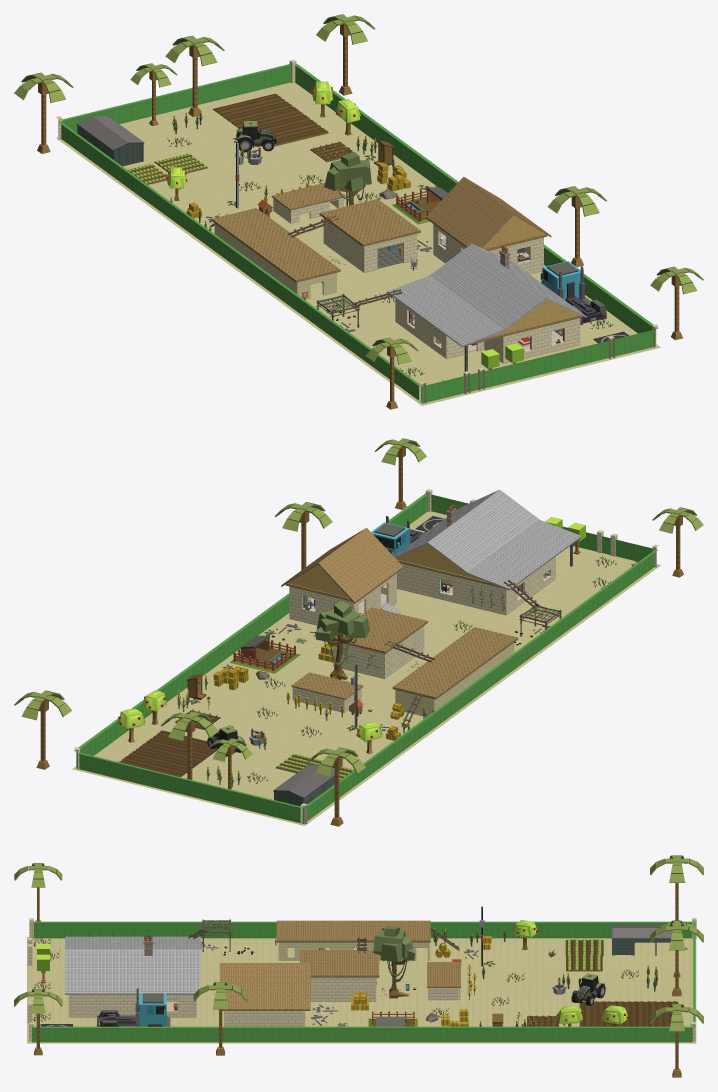
The model's file is chalo_house.glb.
The picture shows the model from 3 angles, top to bottom: view 1: azimuth 30°, elevation 25°; view 2: azimuth 150°, elevation 25°; view 3: azimuth 270°, elevation 25°; orthographic projection. The views are drawn at different scales.
Visible parts, largest first — view 1: Object_6, Object_38, Object_60, Object_52, Object_56, Object_44, Object_40, Object_16, Object_58, Object_20, Object_22, Object_18 (+5 smaller); view 2: Object_6, Object_38, Object_60, Object_56, Object_52, Object_44, Object_16, Object_22, Object_40, Object_18, Object_58, Object_62 (+4 smaller); view 3: Object_6, Object_38, Object_60, Object_52, Object_56, Object_44, Object_40, Object_16, Object_22, Object_18, Object_20, Object_58 (+7 smaller).
Boxes of the visible parts, x1,y1,x2,y2 form: Object_6: (56,82,660,405); Object_38: (59,64,657,403); Object_60: (211,177,581,345); Object_52: (388,244,586,347); Object_56: (55,59,658,403); Object_44: (14,14,703,409); Object_40: (166,81,606,324); Object_16: (174,101,563,343); Object_58: (76,115,272,217); Object_20: (127,93,529,348); Object_22: (262,107,529,351); Object_18: (154,110,530,349); Object_6: (72,511,660,825); Object_38: (74,493,657,823); Object_60: (281,527,517,699); Object_56: (74,489,658,824); Object_52: (381,489,581,613); Object_44: (14,438,703,826); Object_16: (149,584,549,785); Object_22: (128,580,452,763); Object_40: (117,516,426,753); Object_18: (175,571,549,787); Object_58: (273,663,363,806); Object_62: (288,544,482,597); Object_6: (27,937,696,1043); Object_38: (32,921,695,1042); Object_60: (219,920,460,1010); Object_52: (65,936,200,994); Object_56: (27,918,696,1041); Object_44: (14,855,703,1077); Object_40: (97,920,628,1026); Object_16: (200,928,678,1026); Object_22: (305,925,645,1026); Object_18: (173,928,658,1026); Object_20: (166,929,671,1026); Object_58: (452,906,672,966).
Bounding box in the file's own units: 223 × 54.23 × 413.
Materials: 24 (23 with a texture image).
